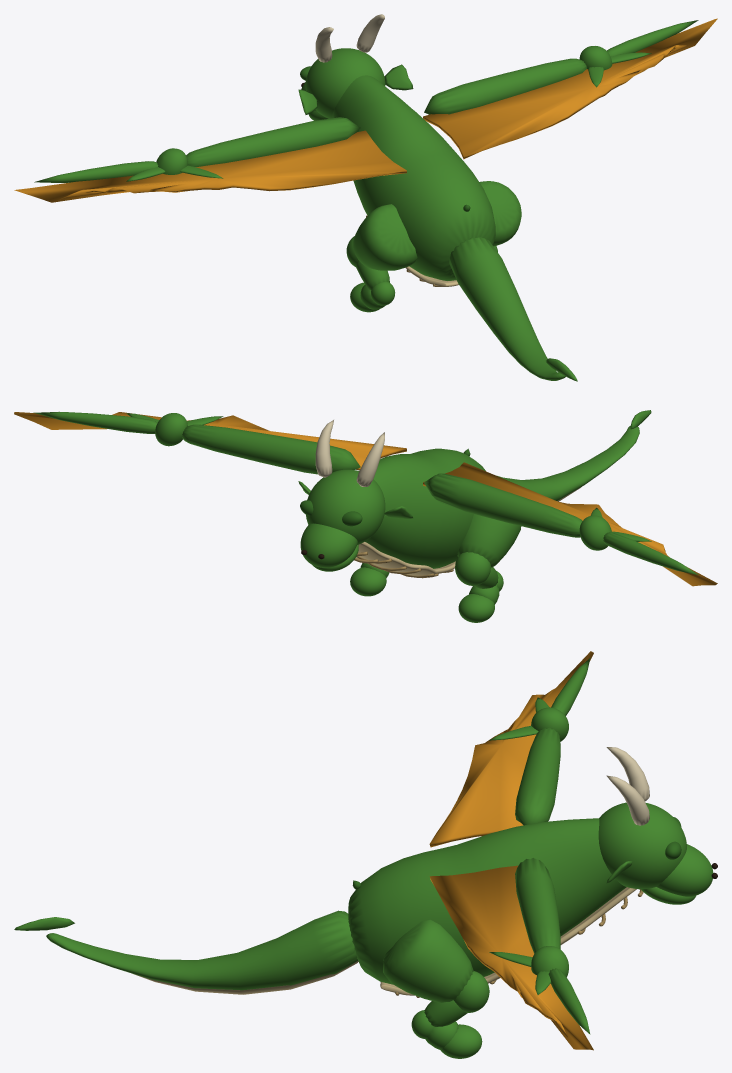
The model's file is winged_detail.glb.
3 views of the same model, one above another, from view 1: azimuth 30°, elevation 25°; view 2: azimuth 150°, elevation 25°; view 3: azimuth 270°, elevation 25° (orthographic). The views are drawn at different scales.
Visible parts, largest first — view 1: Detail; view 2: Detail; view 3: Detail.
Boxes of the visible parts, left/top/right/bottom form: Detail: left=14, top=14, right=717, bottom=381; Detail: left=14, top=410, right=717, bottom=622; Detail: left=14, top=651, right=717, bottom=1058.
Bounding box in the file's own units: 1.38 × 0.4285 × 1.03.
